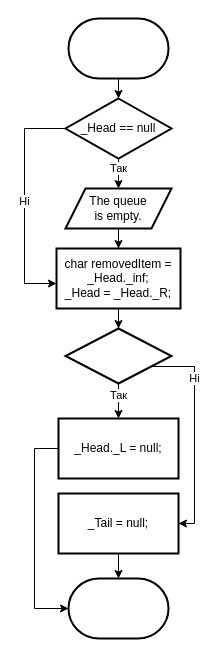
This 220x656 diagram has some shape labels left out. The shapes that lost their labels are listed below. From the top down, each one's centre as x and y in pixels, then its label:
At point 118,48: "public char DeQueue()".
At point 118,355: "(_Head != null".
At point 118,608: "return removedItem".
